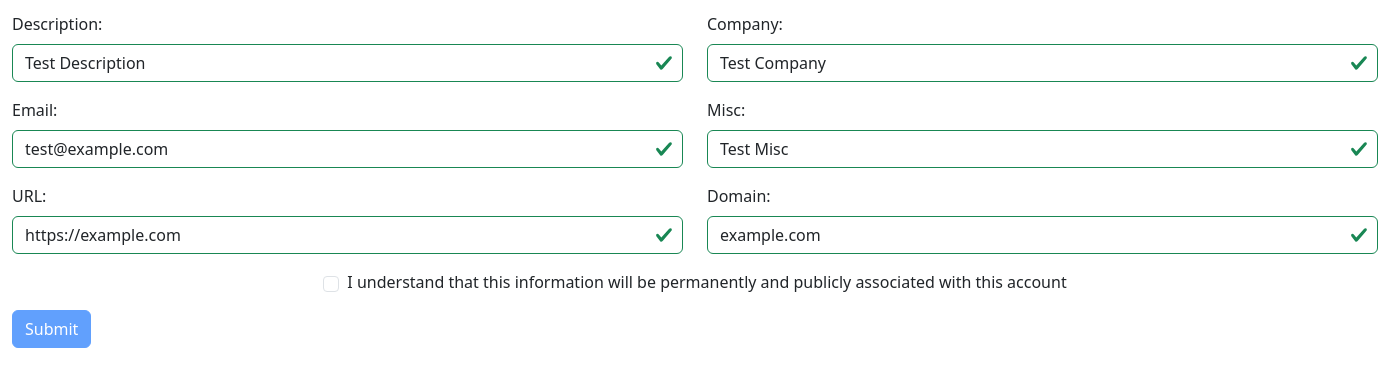
Test case: EditAccountForm › shows submitting state during submission
This screenshot has width=1390, height=365.
Step 1. Click the checkbox → x=331, y=284, box x1=323 y1=276 x2=339 y2=292
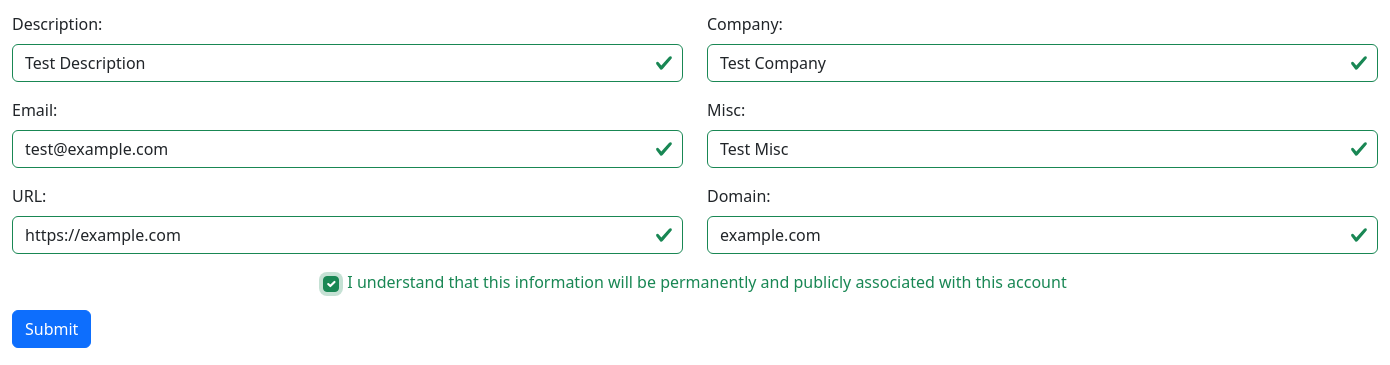
Step 2. Click the button "Submit" → x=52, y=329, box x1=12 y1=310 x2=91 y2=348
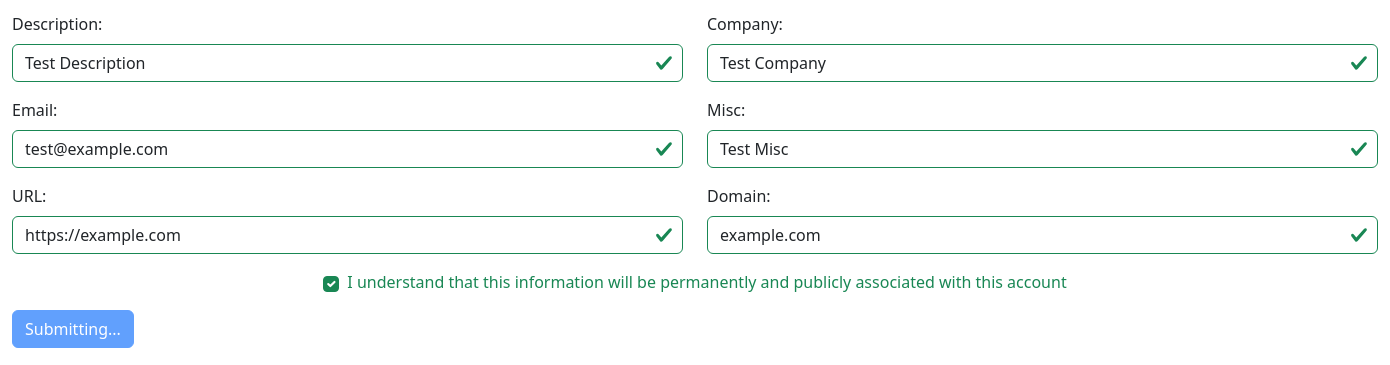
Expected: the button "Submitting..." is disabled, x1=12 y1=310 x2=134 y2=348
